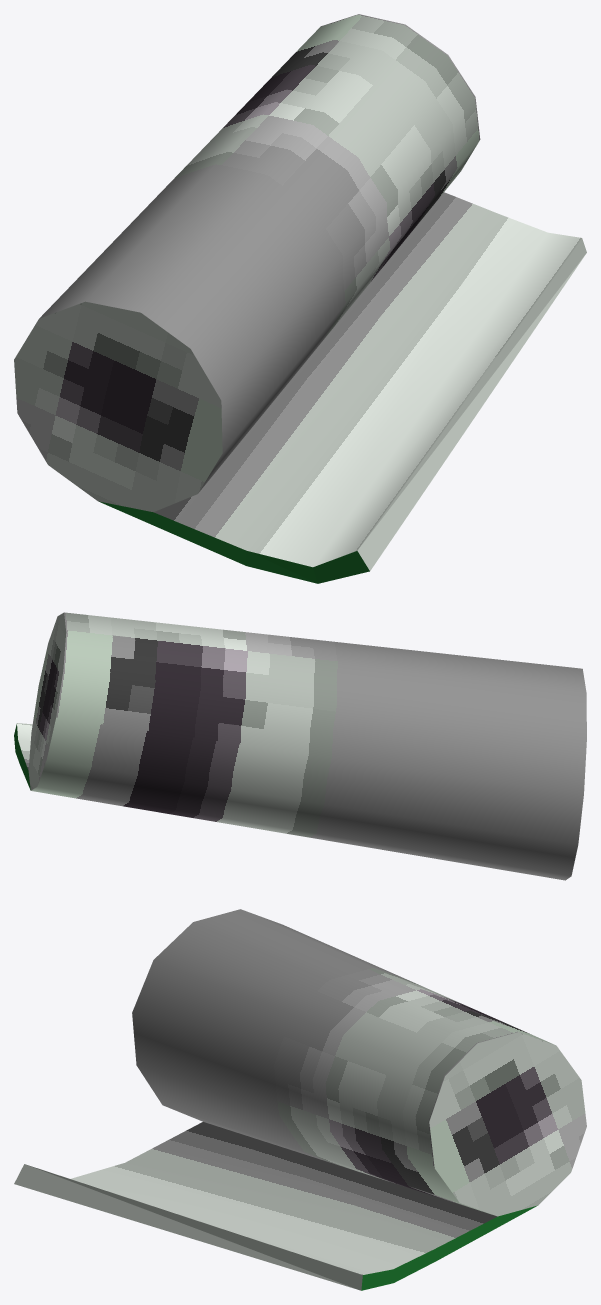
Rendered from fg_wall.dae.
The picture shows the model from 3 angles, top to bottom: view 1: azimuth 30°, elevation 25°; view 2: azimuth 150°, elevation 25°; view 3: azimuth 270°, elevation 25°; orthographic projection. The views are drawn at different scales.
Parts seen in each view (by area): view 1: fg_wall; view 2: fg_wall; view 3: fg_wall.
Part boxes in pixels (x1,y1,x2,y2): fg_wall: (14, 14, 586, 583); fg_wall: (14, 612, 586, 880); fg_wall: (14, 909, 586, 1290).
Size of the model in its own units: 19.76 by 10 by 17.69.
1 material, 1 textured.
